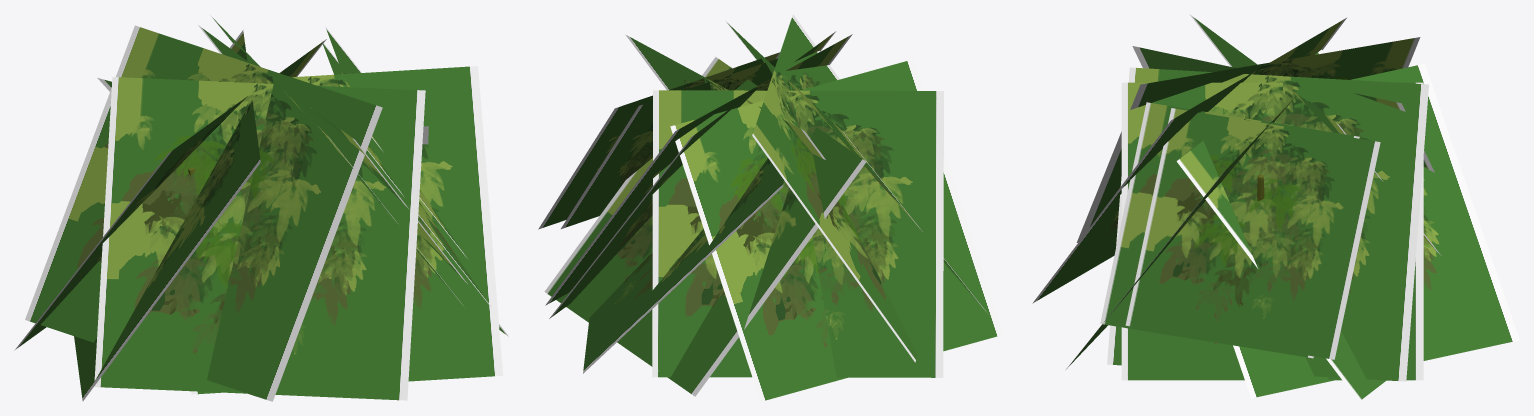
File: TinyTree.fbx
3 renders of one model, left to right at view 1: azimuth 30°, elevation 25°; view 2: azimuth 150°, elevation 25°; view 3: azimuth 270°, elevation 25°, orthographic. The views are drawn at different scales.
Visible parts, largest first — view 1: tree branch green 1; view 2: tree branch green 1; view 3: tree branch green 1.
Part boxes in pixels (x1,y1,x2,y2): tree branch green 1: (14, 15, 508, 401); tree branch green 1: (538, 14, 1003, 401); tree branch green 1: (1032, 14, 1519, 401).
Size of the model in its own units: 161 by 104 by 162.
